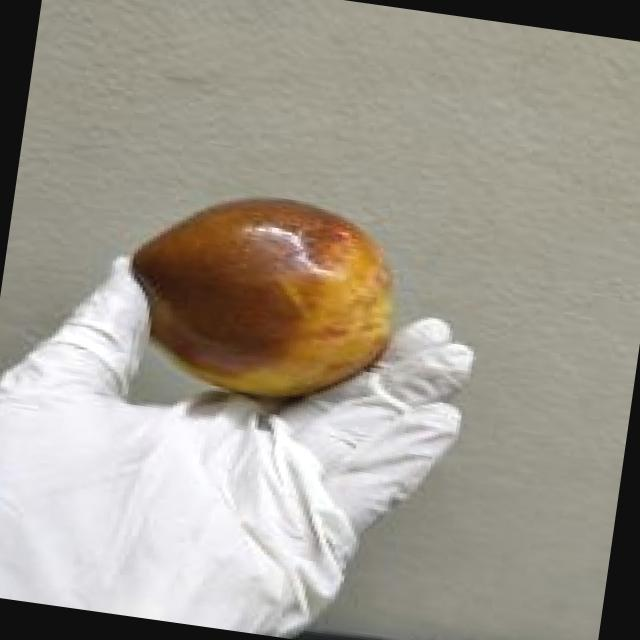Rotten_Apple: (104, 168, 420, 430)
